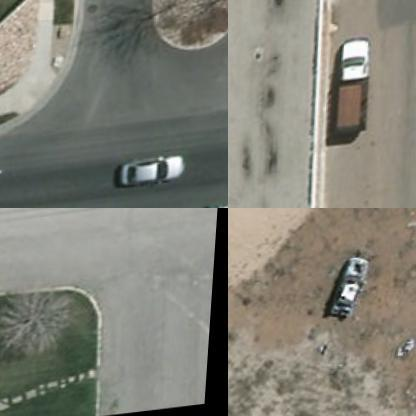car: (322, 256, 372, 326), (119, 158, 185, 192)
truck: (338, 36, 376, 138)
